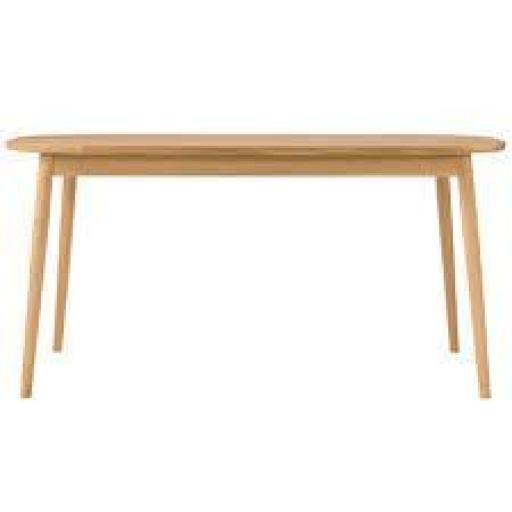table: (4, 80, 503, 421)
